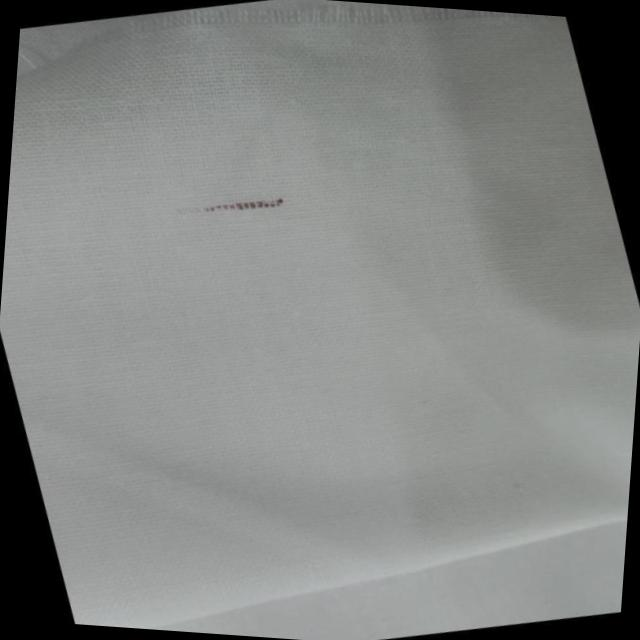contamination: (188, 180, 303, 230)
